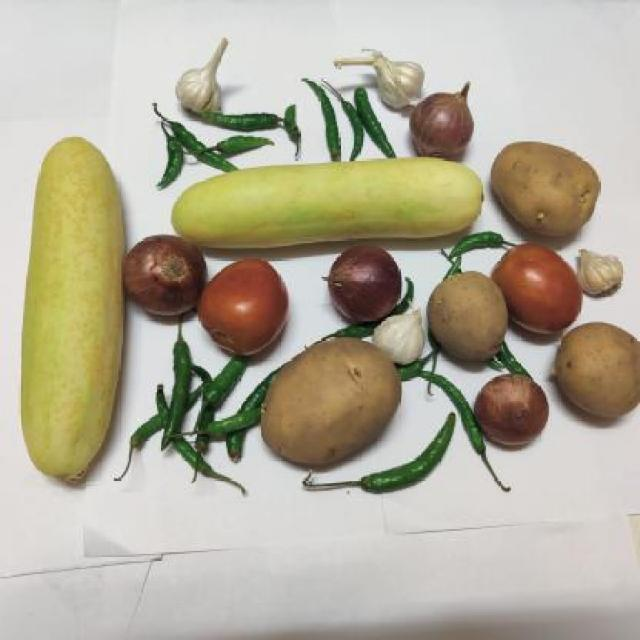Garlic: (317, 30, 426, 119), (170, 30, 244, 119)
Green Chili: (132, 340, 257, 480), (143, 103, 234, 192)
Onion: (117, 234, 217, 322), (323, 246, 409, 325), (474, 368, 548, 450), (414, 86, 489, 157)
Potato: (256, 331, 402, 471), (490, 132, 604, 240), (549, 323, 640, 429), (424, 270, 510, 366)
Tomato: (490, 234, 584, 337), (198, 256, 292, 358)
cucumber: (11, 134, 132, 491), (169, 153, 491, 244)
